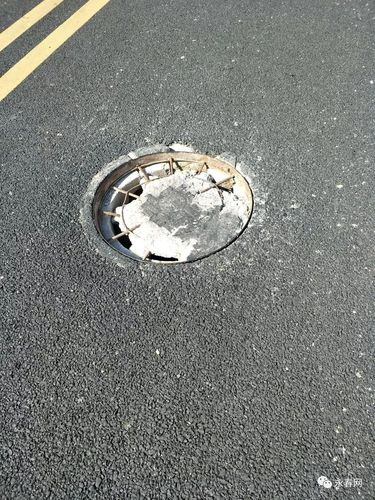broke: (75, 132, 265, 283)
